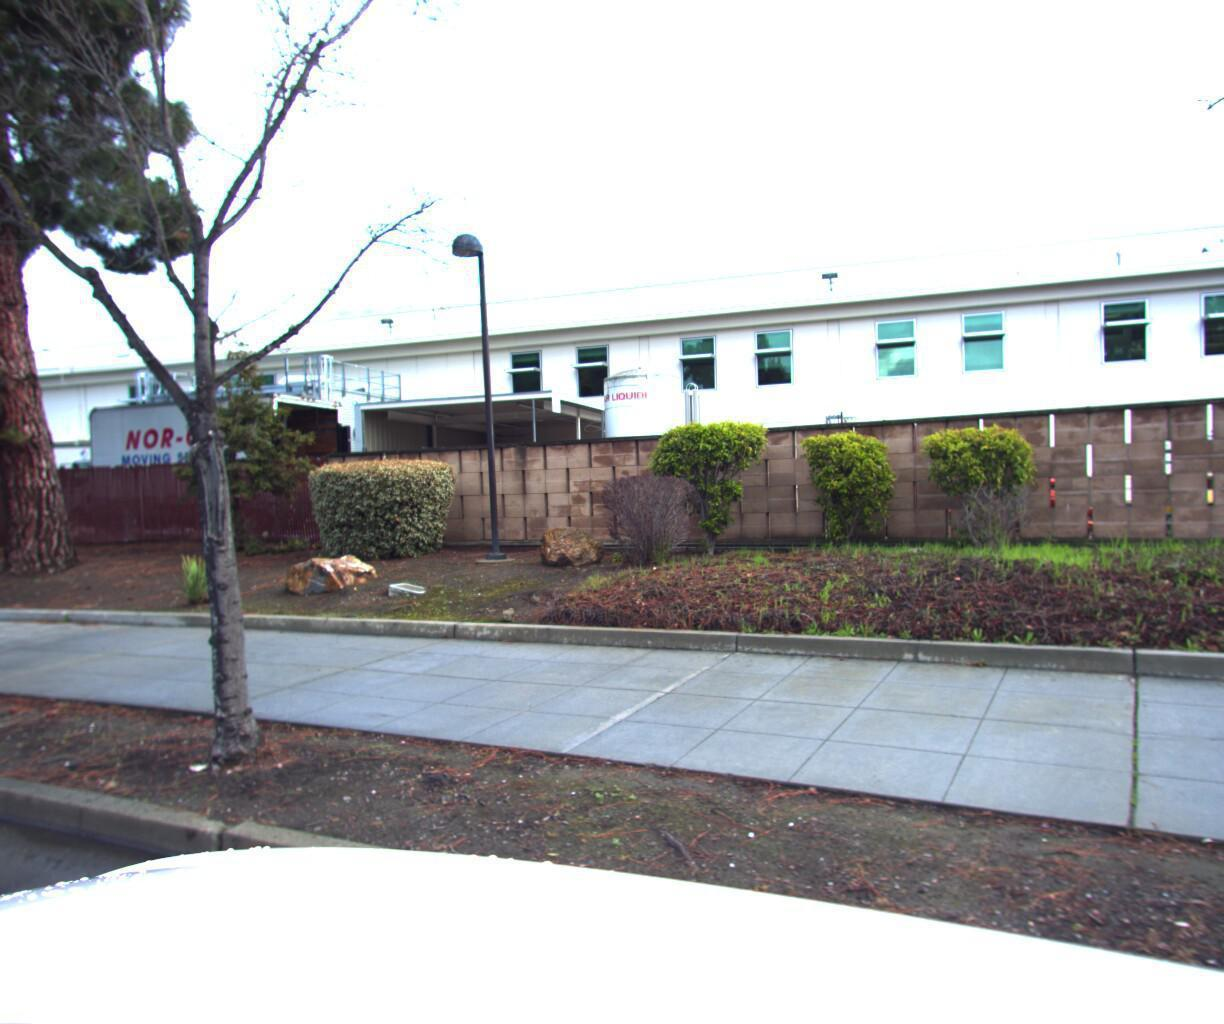truck: (44, 389, 363, 541)
